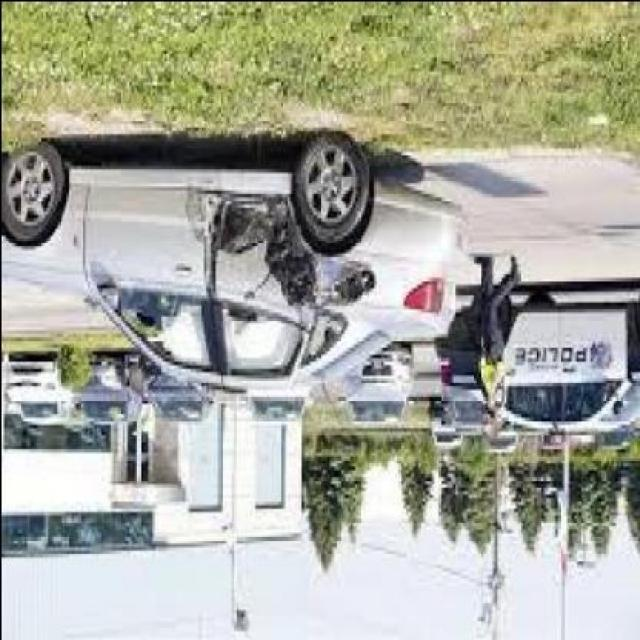damage: (183, 172, 373, 354)
